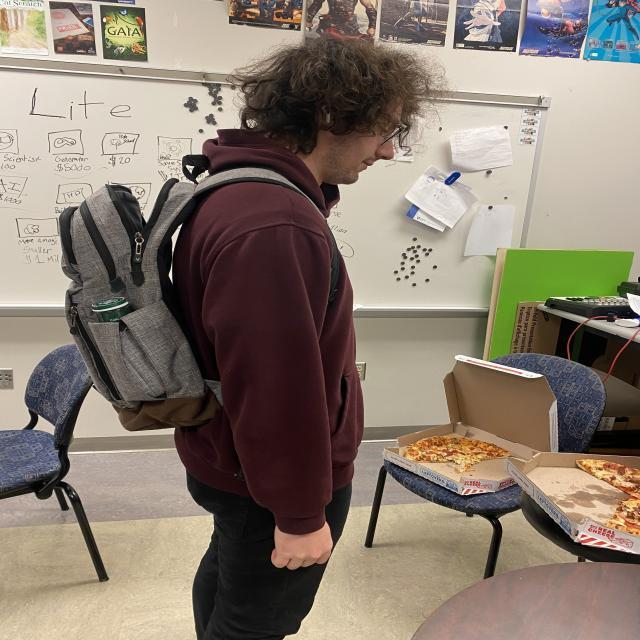Backpacks: (44, 184, 218, 424)
